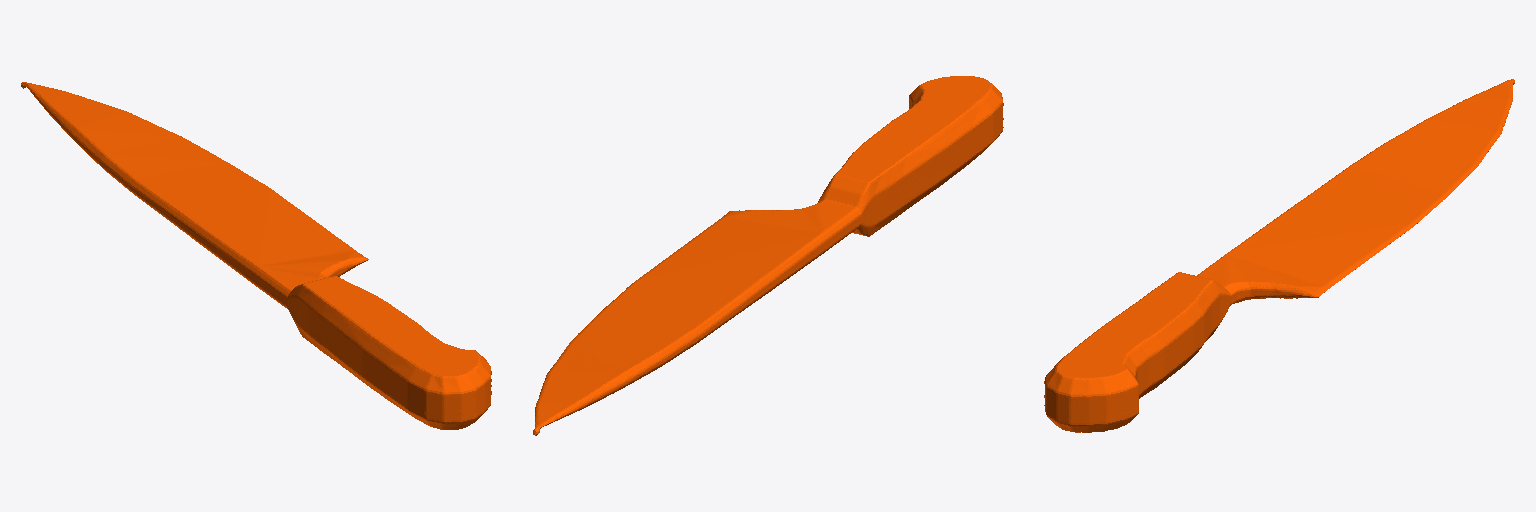
URDF robot description (knife):
<?xml version="1.0" ?>
<robot name="knife">
   <material name="obj_color">
      <color rgba="1.0 0.423529411765 0.0392156862745 1.0"/>
   </material>
   <link name="top">
      <inertial>
         <origin rpy="2.599779250842957e-06 0.0001595959311688464 0.0001610159154397753" xyz="-0.005334255257137146 -0.03935297125882784 -2.824913538852803e-07"/>
         <mass value="0.05479302770532811"/>
         <inertia ixx="0.0001595088347798177" ixy="-3.69678403893561e-06" ixz="-1.36340434191909e-11" iyy="2.686875642866881e-06" iyz="6.21283715269926e-10" izz="0.00016101591543678"/>
      </inertial>
      <visual>
         <origin rpy="0 0 0" xyz="0 0 0"/>
         <geometry>
            <mesh filename="top_watertight_tiny.stl" scale="1 1 1"/>
         </geometry>
         <material name="obj_color"/>
      </visual>
      <collision>
         <origin rpy="0 0 0" xyz="0 0 0"/>
         <geometry>
            <mesh filename="top_watertight_tiny.obj" scale="1 1 1"/>
         </geometry>
      </collision>
   </link>
   <link name="bottom">
      <inertial>
         <origin rpy="1.633333333194242e-08 1.633333333194243e-08 1.633333333357667e-08" xyz="0.3464080000000008 0.3464080000000008 0.3464080000000008"/>
         <mass value="0.0009800000000000017"/>
         <inertia ixx="1.633333333248717e-08" ixy="5.447480642029219e-19" ixz="5.447480642029219e-19" iyy="1.633333333248717e-08" iyz="5.447480642029219e-19" izz="1.633333333248717e-08"/>
      </inertial>
      <visual>
         <origin rpy="0 0 0" xyz="0 0 0"/>
         <geometry>
            <mesh filename="bottom_watertight_tiny.stl" scale="1 1 1"/>
         </geometry>
         <material name="obj_color"/>
      </visual>
   </link>
   <link name="world"/>
   <joint name="world_to_base" type="fixed">
      <origin xyz="0 0 0"/>
      <axis xyz="0 0 0"/>
      <parent link="world"/>
      <child link="bottom"/>
   </joint>
   <joint name="rotation" type="revolute">
      <origin xyz="0 0 0"/>
      <axis xyz="0 0 -1"/>
      <parent link="bottom"/>
      <child link="top"/>
      <dynamics damping="1.0" friction="1.0"/>
      <limit effort="0.1" velocity="0.1" lower="0" upper="0.001"/>
   </joint>
</robot>

--- Render facts (derived) ---
3 views of the same robot in one strip: view 1: azimuth 30°, elevation 25°; view 2: azimuth 150°, elevation 25°; view 3: azimuth 330°, elevation 25° (orthographic).
Model knife with 3 links and 2 joints (1 revolute, 1 fixed), rooted at world, posed all joints at 0.
Links seen in each view (by area): view 1: top; view 2: top; view 3: top.
Boxes of the visible links, x1,y1,x2,y2 form: top: (21,82,491,429); top: (533,76,1003,435); top: (1044,79,1514,432).
Size in the robot's own frame: 0.0321 by 0.222 by 0.0149 metres.
1 mesh visuals loaded from 2 distinct referenced files (1 binary STL); not drawn: 1 (reference not matched to a file when rendering).
